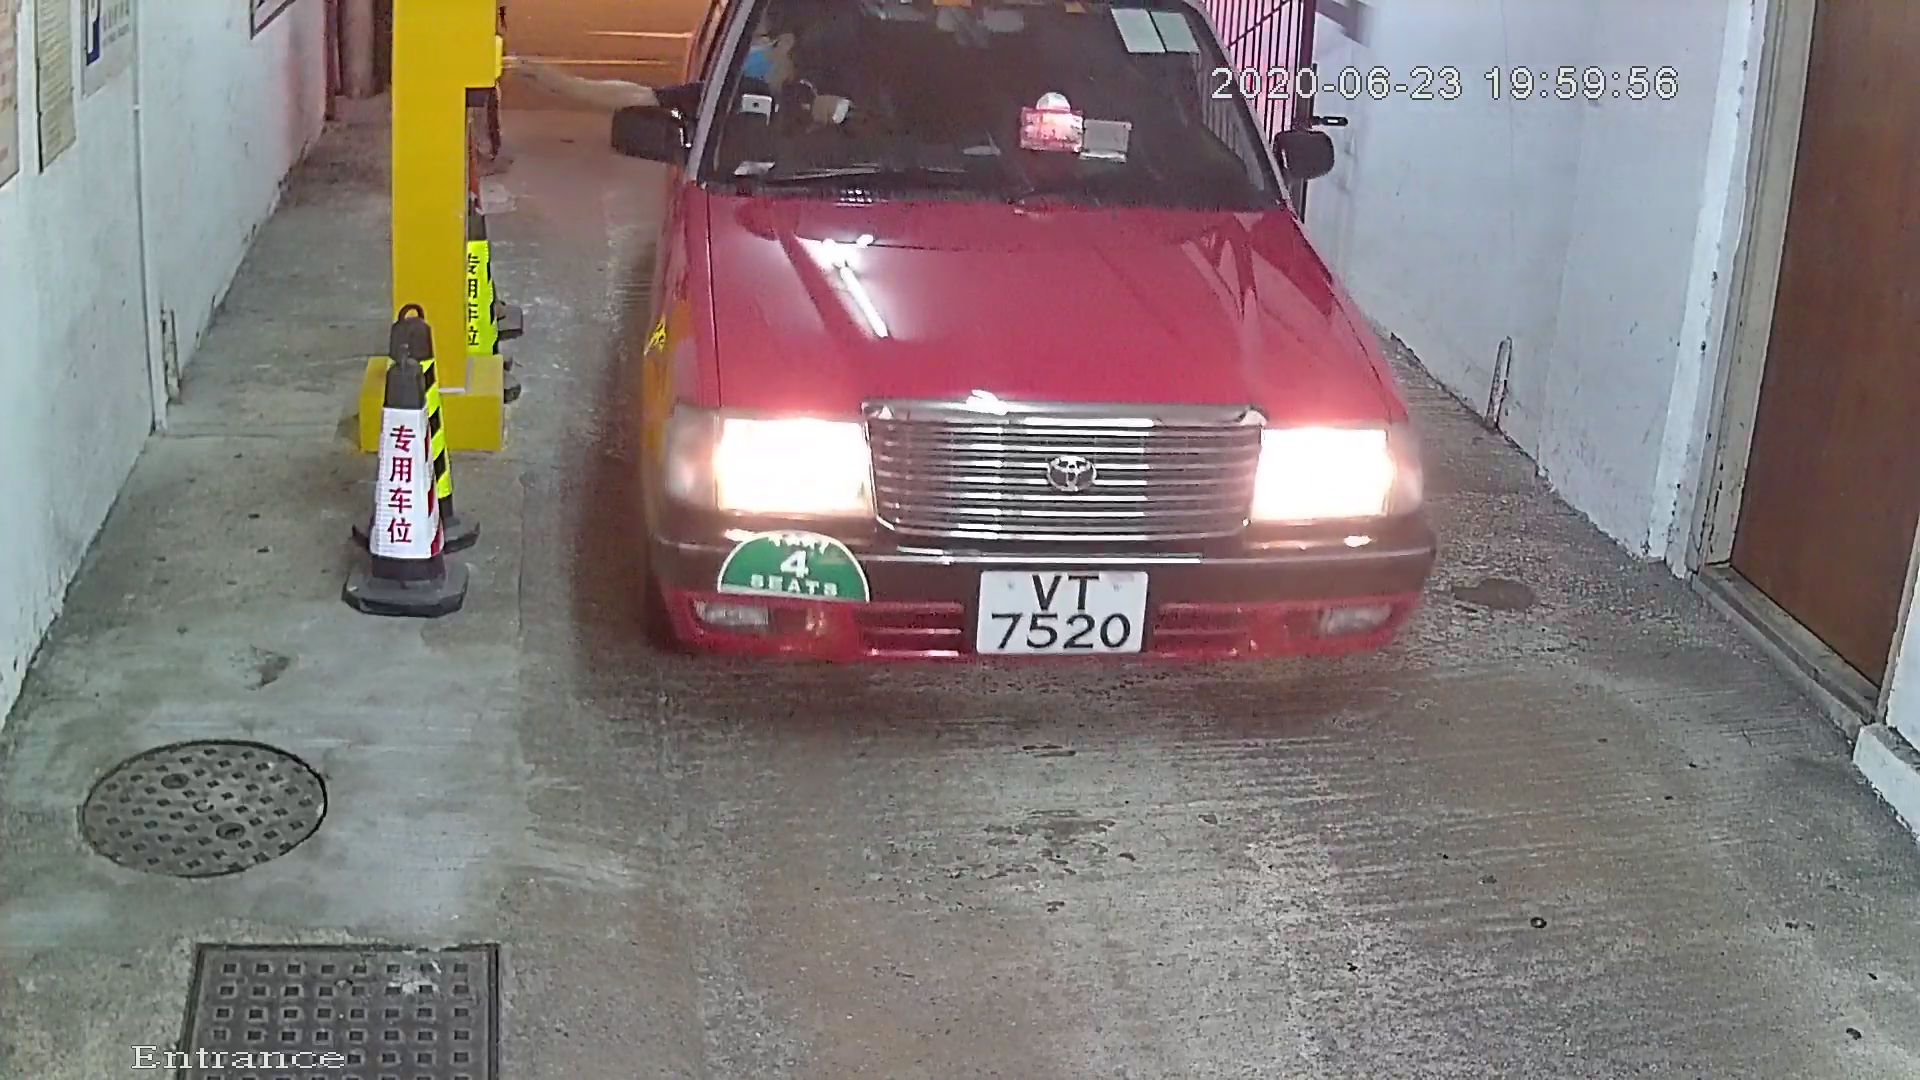taxi: (558, 1, 1486, 764)
taxi_mark: (675, 505, 913, 638)
